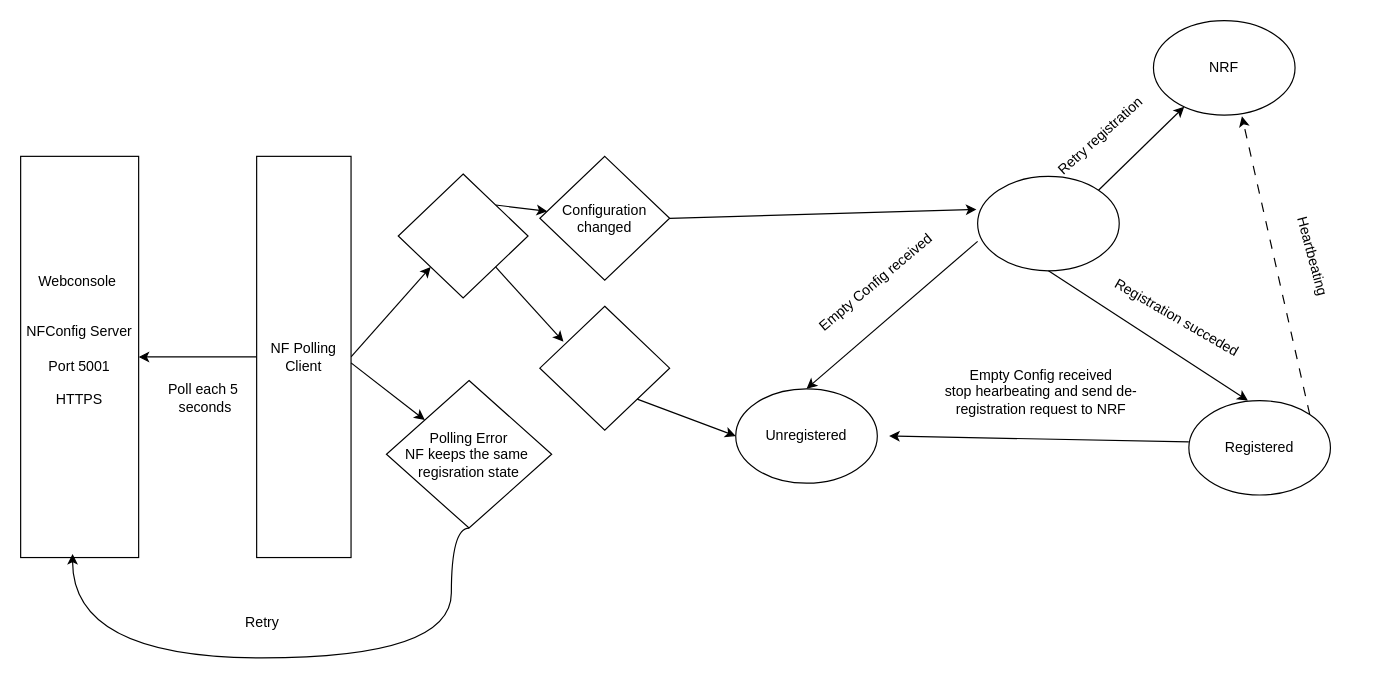
Some shapes in this 1379 by 679 pixel diagram are drawn without their labels. Here are the shapes that lost their labels. From the top down, the box of each, then its label:
(397, 173, 528, 298): Polling Succeded
(976, 175, 1119, 271): Registering
(539, 305, 670, 430): Empty Configuration
